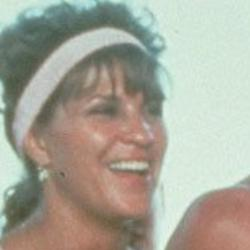face: (2, 5, 174, 225)
